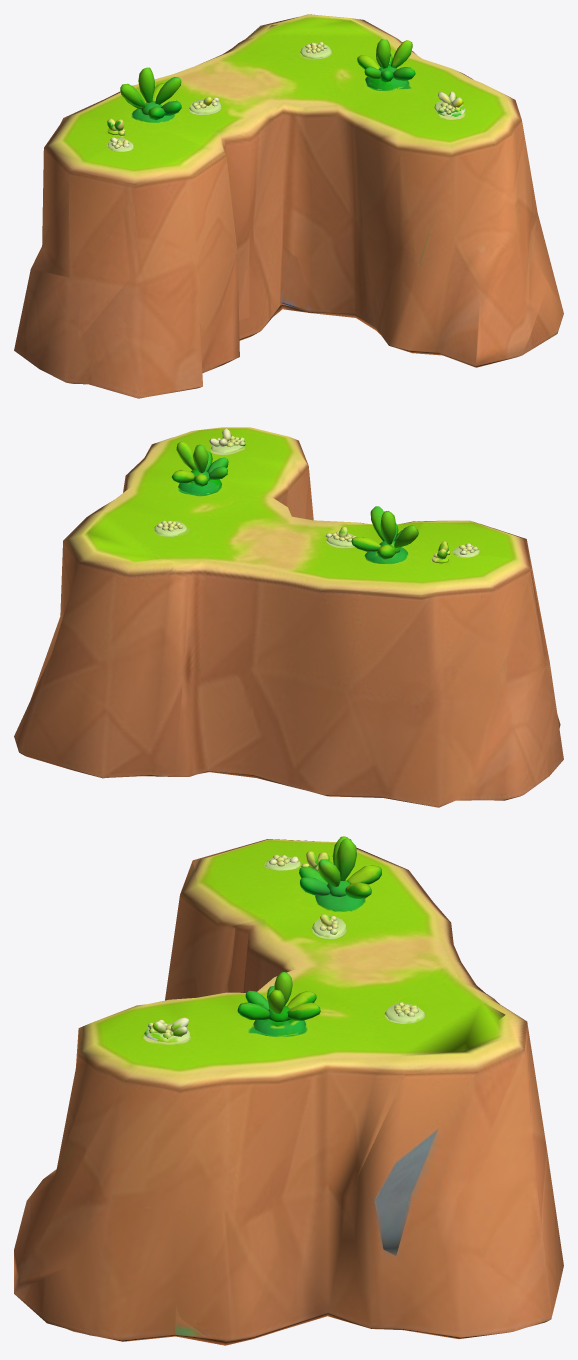
The model's file is r4c1_inner_cliff_corner.glb.
The picture shows the model from 3 angles, top to bottom: view 1: azimuth 30°, elevation 25°; view 2: azimuth 150°, elevation 25°; view 3: azimuth 270°, elevation 25°; orthographic projection. The views are drawn at different scales.
Bounding box in the file's own units: 1 × 0.5391 × 0.8477.
Materials: 1 (1 with a texture image).
